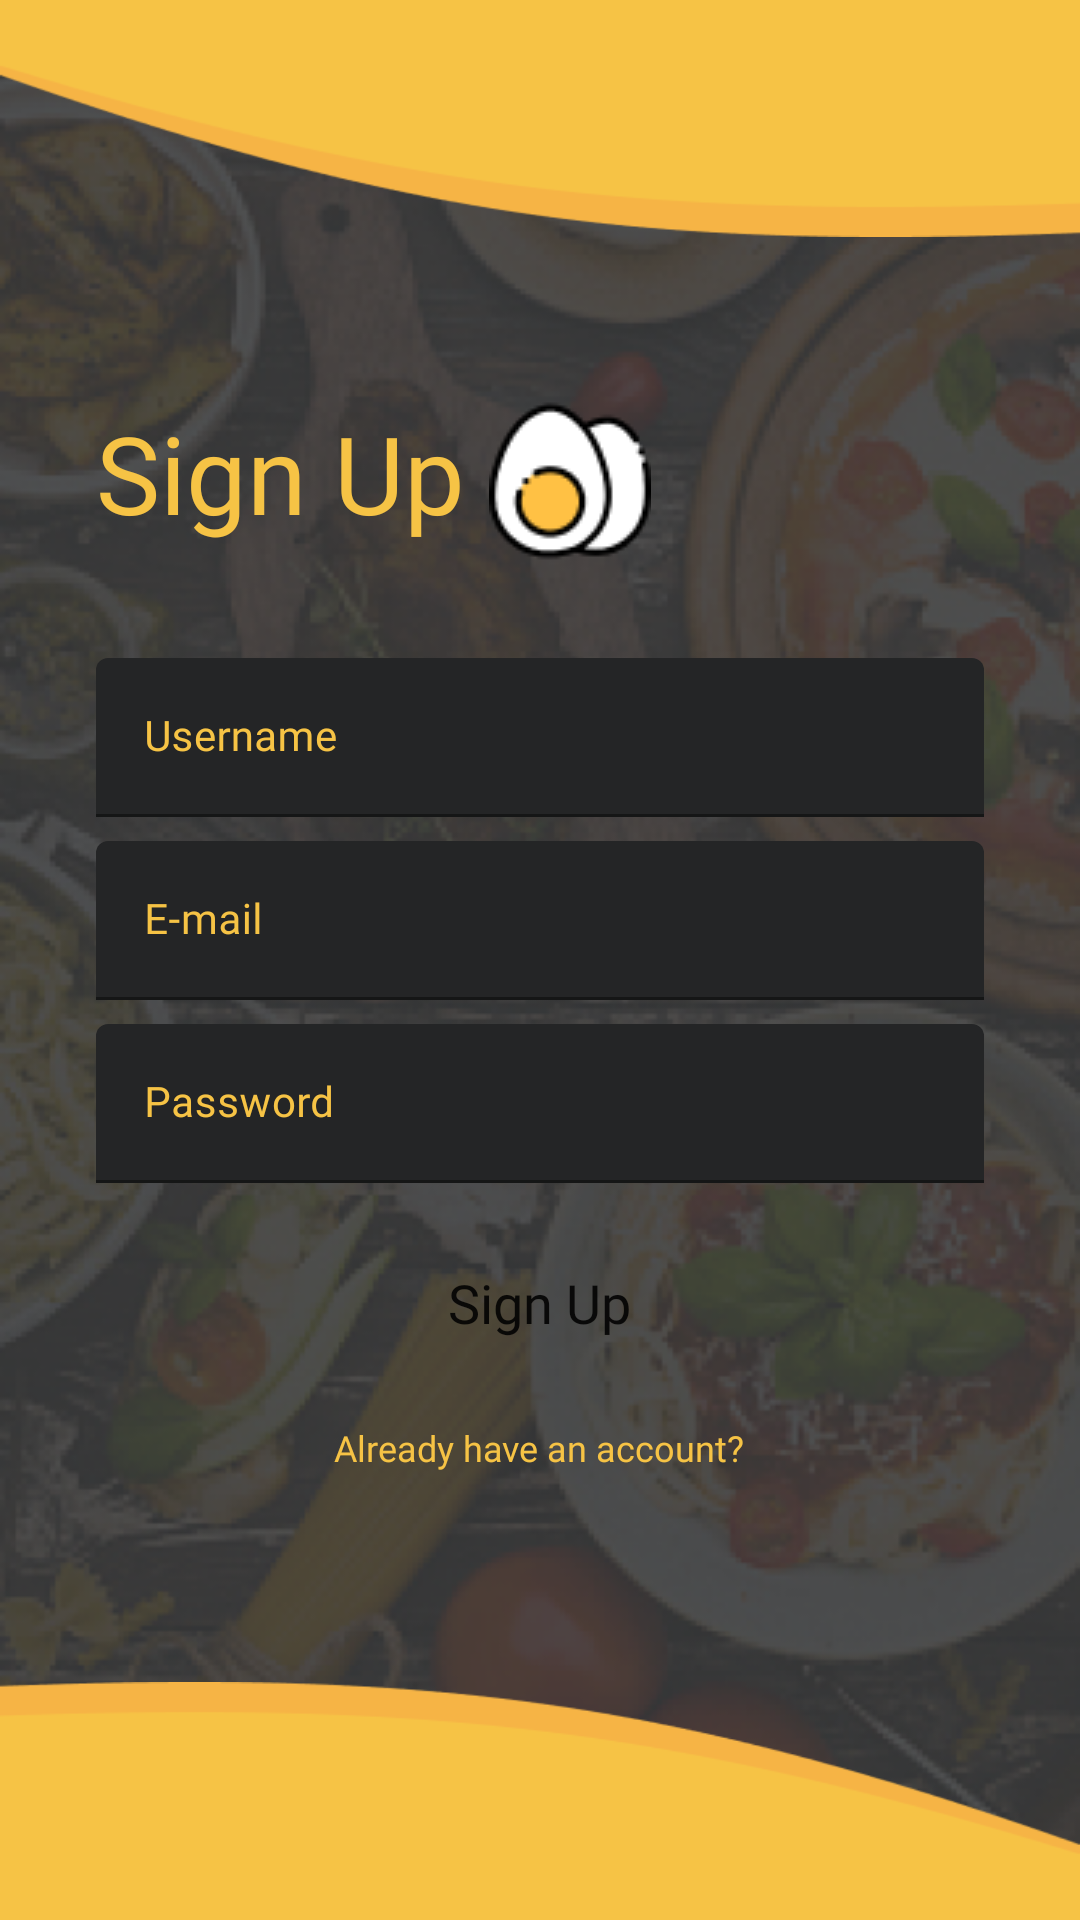

Named icons in this screenshot (1080px×1920px) and their bounding boxes, rect(x1, y1, x2, y2):
egg: rect(489, 404, 651, 557)
